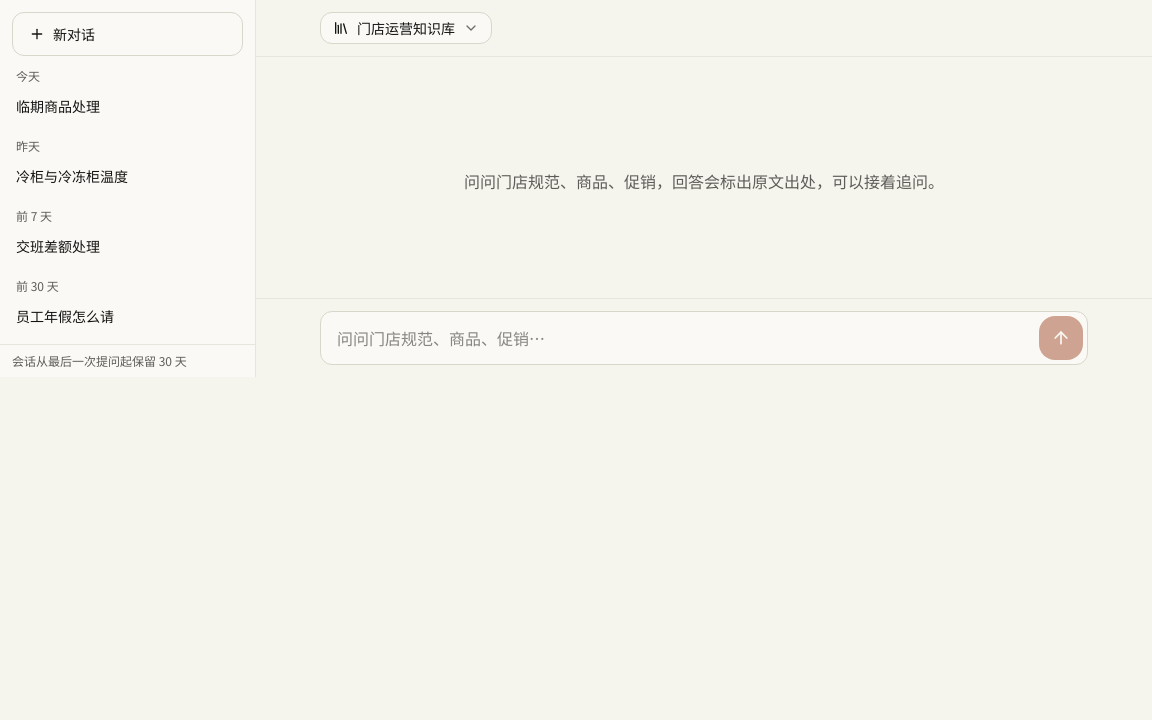
Test: 知识库选择 › 至少要选一个库才能确定
Click the button "门店运营知识库": [406, 28] box [320, 12, 492, 44]
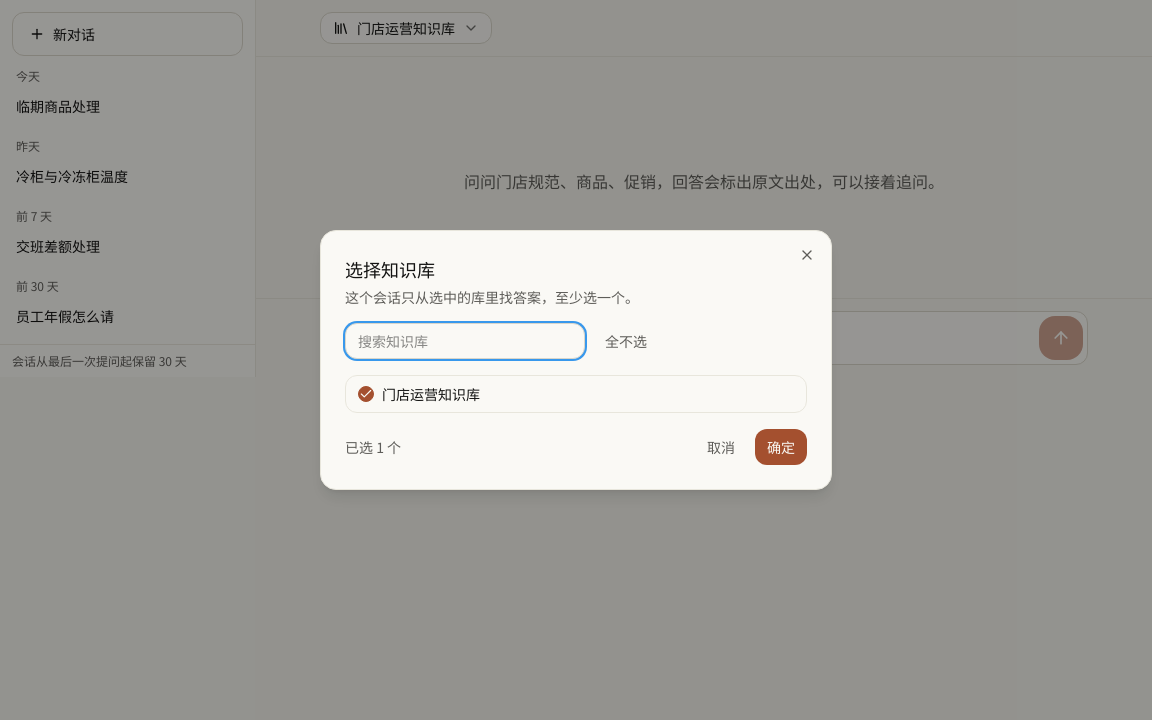
Click the checkbox named "门店运营知识库": [366, 394] box [358, 386, 374, 402]
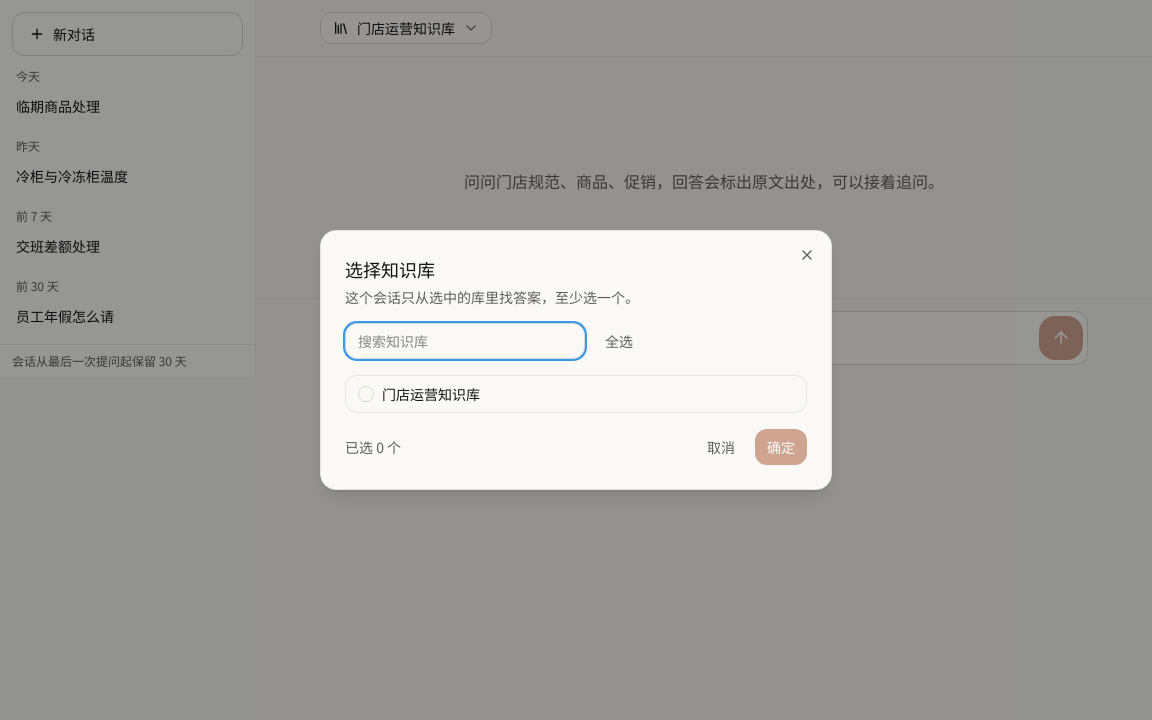
Now the text "已选 0 个" is shown, box [345, 437, 401, 457]
Now the button "确定" is disabled, box [755, 429, 807, 465]
